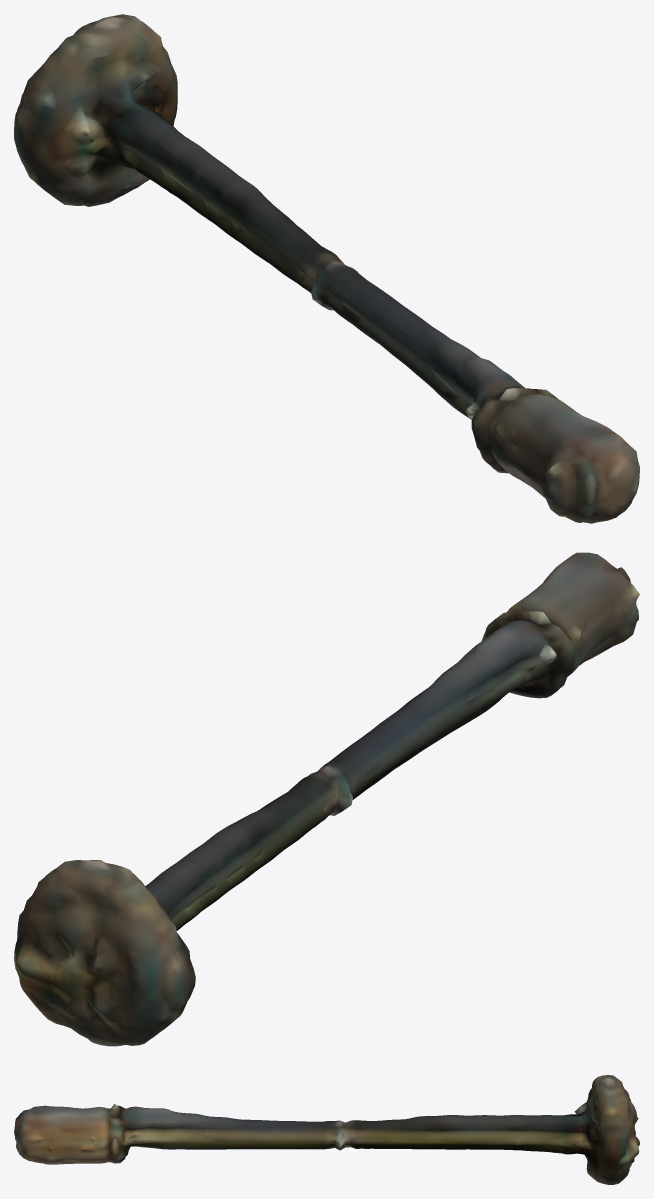
Rendered from fuel-sensor.glb.
3 renders of one model, top to bottom at view 1: azimuth 30°, elevation 25°; view 2: azimuth 150°, elevation 25°; view 3: azimuth 270°, elevation 25°, orthographic. The views are drawn at different scales.
Visible parts, largest first — view 1: geometry_0; view 2: geometry_0; view 3: geometry_0.
Part boxes in pixels (x1,y1,x2,y2): geometry_0: (14,14,639,523); geometry_0: (14,552,639,1046); geometry_0: (14,1075,639,1184).
Size of the model in its own units: 0.1811 by 0.1954 by 1.06.
